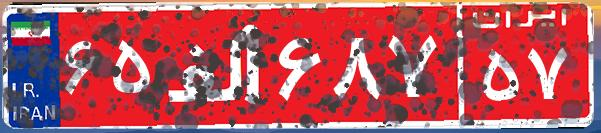5: (475, 38, 525, 113), (110, 28, 158, 105)
6: (273, 28, 330, 110), (57, 26, 110, 107)
7: (385, 28, 445, 110), (525, 38, 570, 115)
8: (330, 28, 385, 110)
الف: (158, 15, 273, 115)
